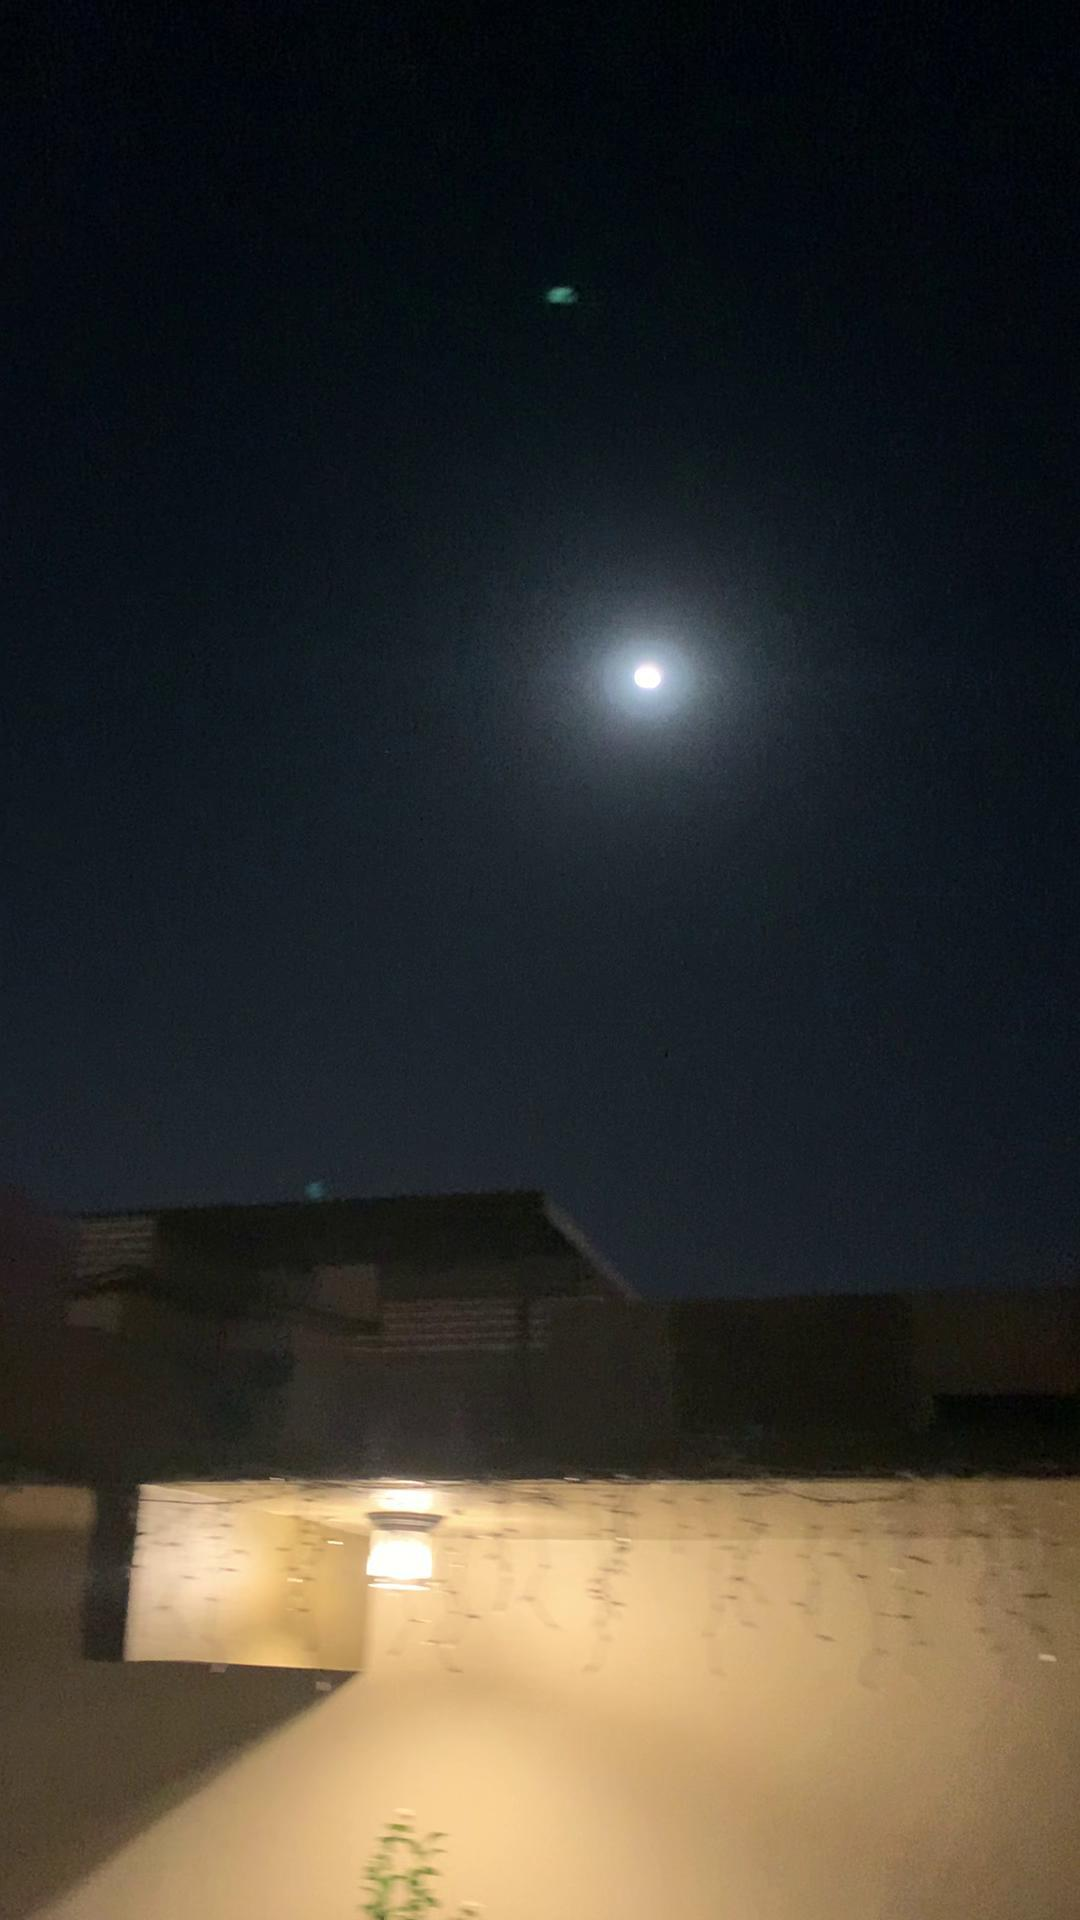moon: (617, 641, 704, 720)
